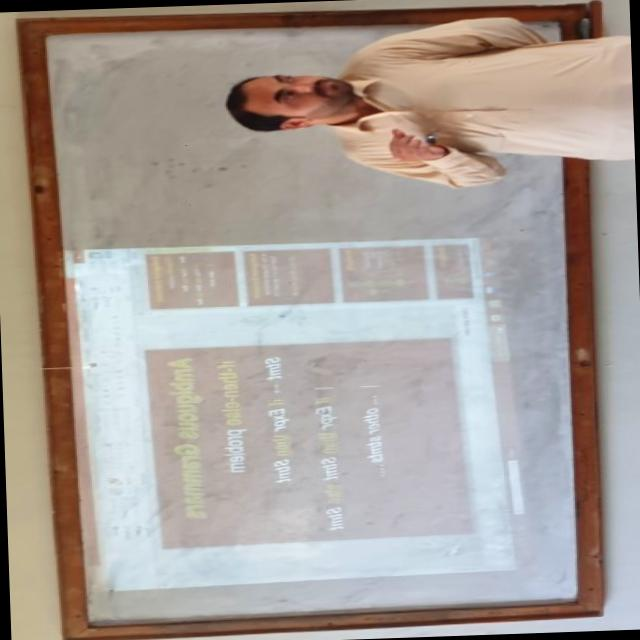Instructor: (220, 22, 626, 160)
Slide: (52, 236, 535, 590)
White-board: (36, 14, 592, 635)
